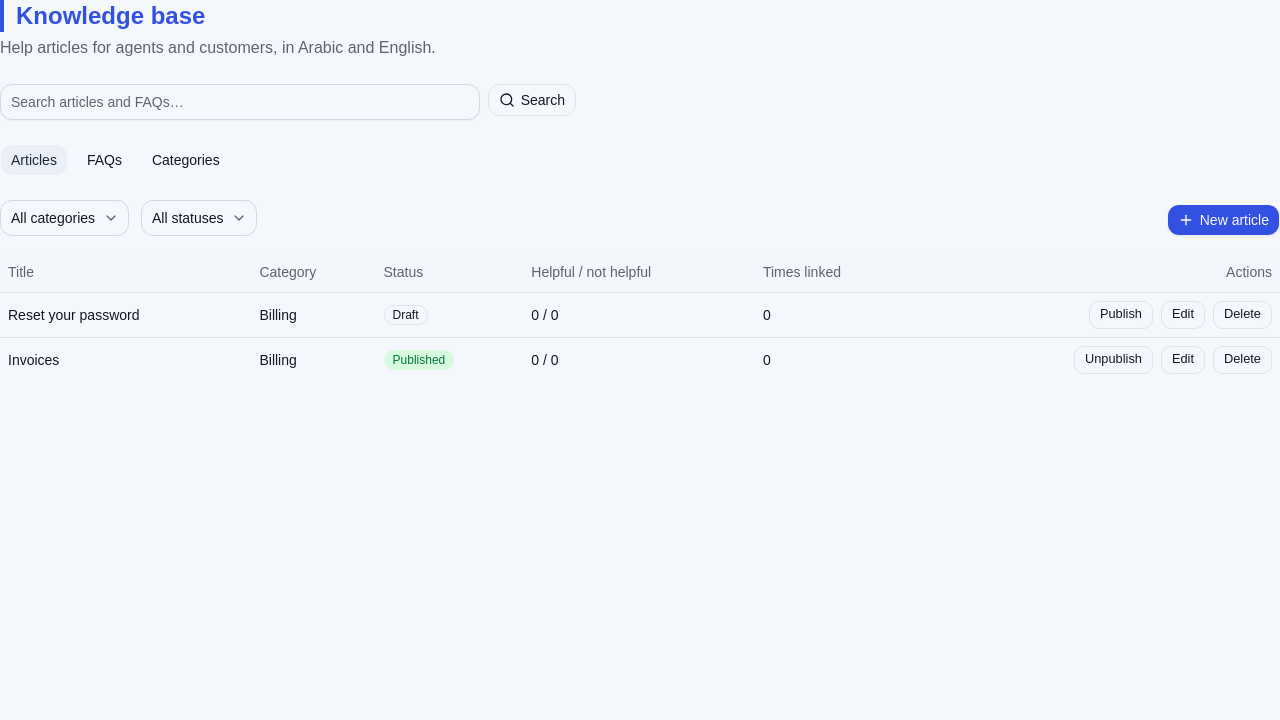
Test: KnowledgeBasePage › lets an editor create an article with both languages (saved as a draft)
The image size is (1280, 720).
Click the button "New article" at (1223, 220), box [1167,204,1279,236]
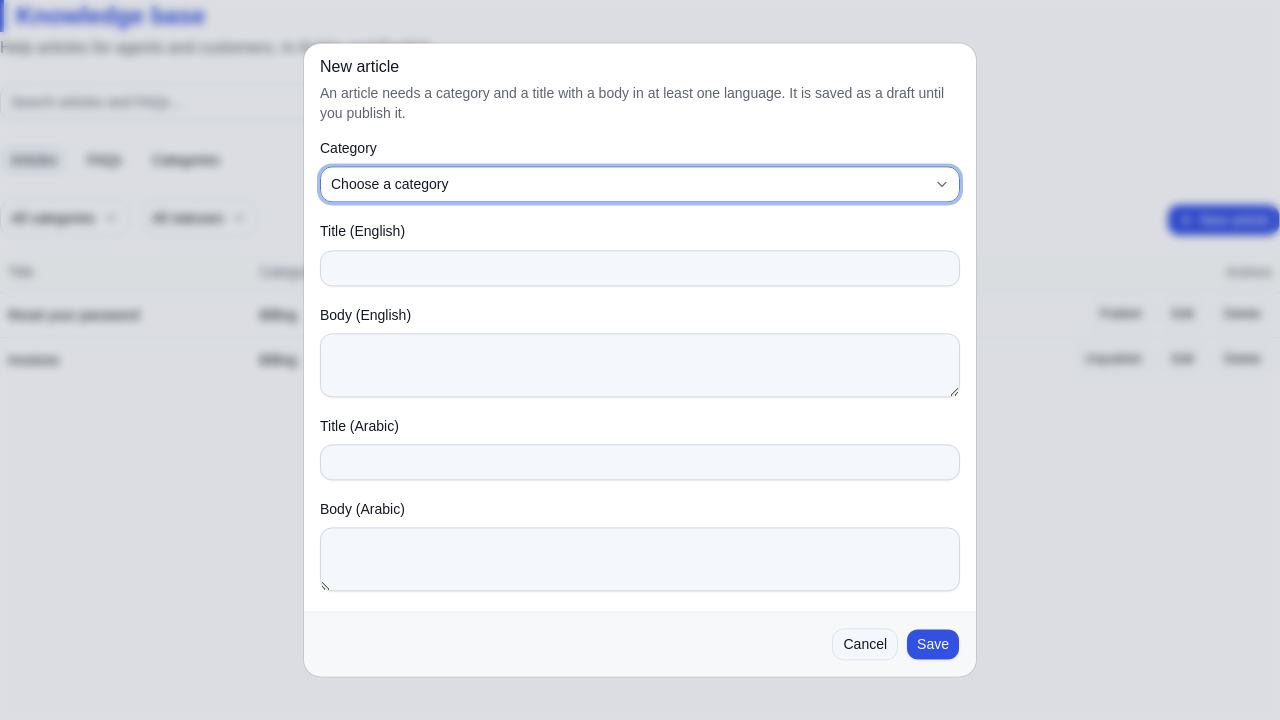
Select "Billing" in the dropdown labelled "Category" at (640, 185), box [320,167,960,203]
Type "Reset your password" into the field labelled "Title (English)" at (640, 268), box [320,250,960,286]
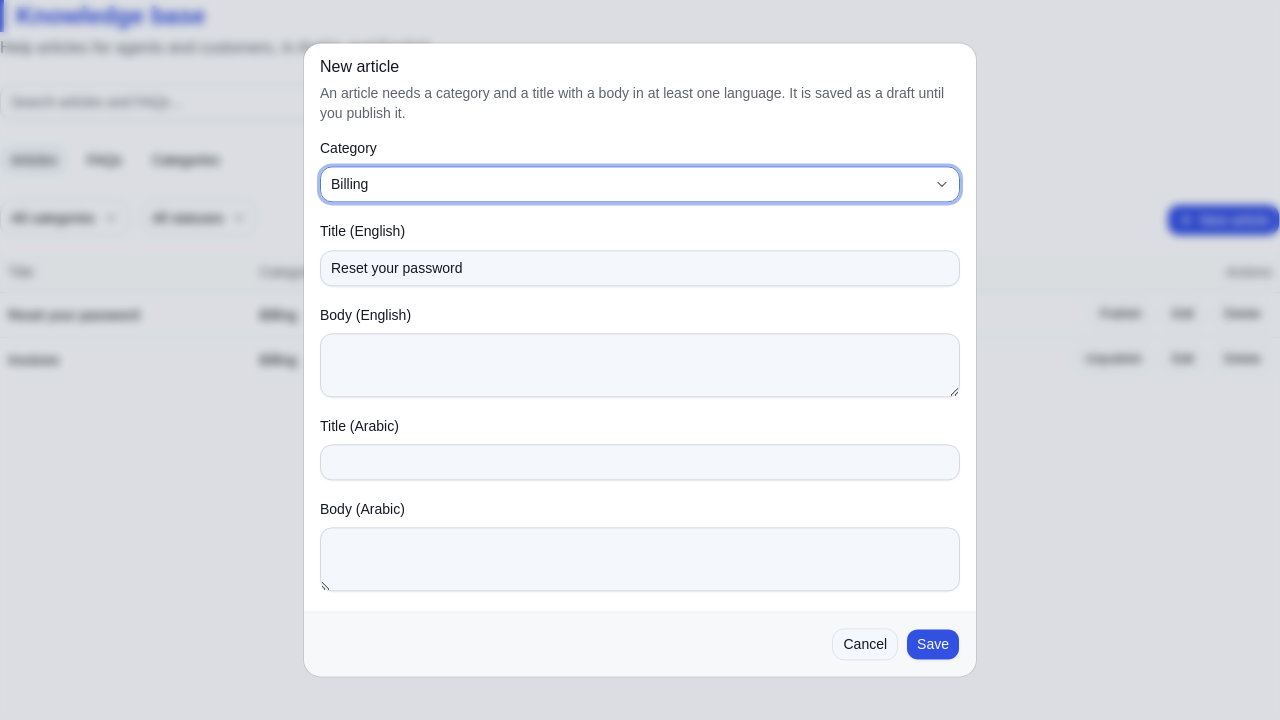
Type "Use the reset link." into the text box labelled "Body (English)" at (640, 365), box [320,333,960,397]
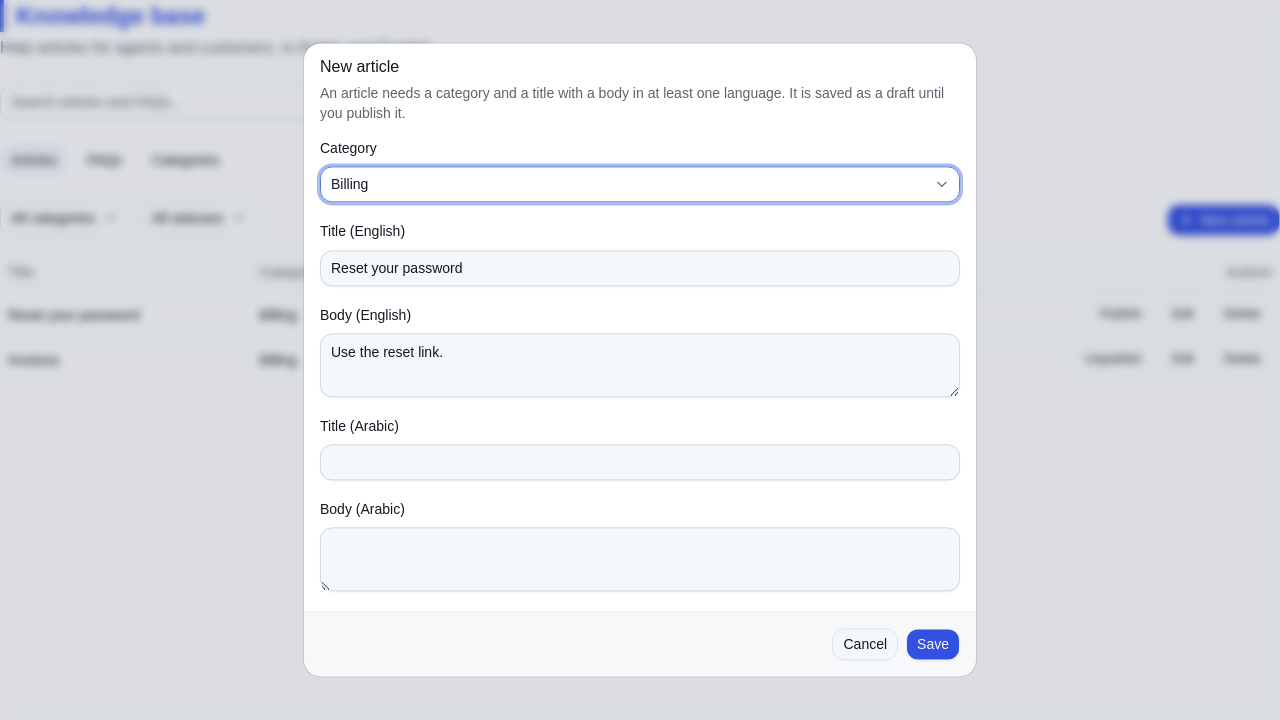
Type "إعادة تعيين كلمة المرور" into the field labelled "Title (Arabic)" at (640, 462), box [320,444,960,480]
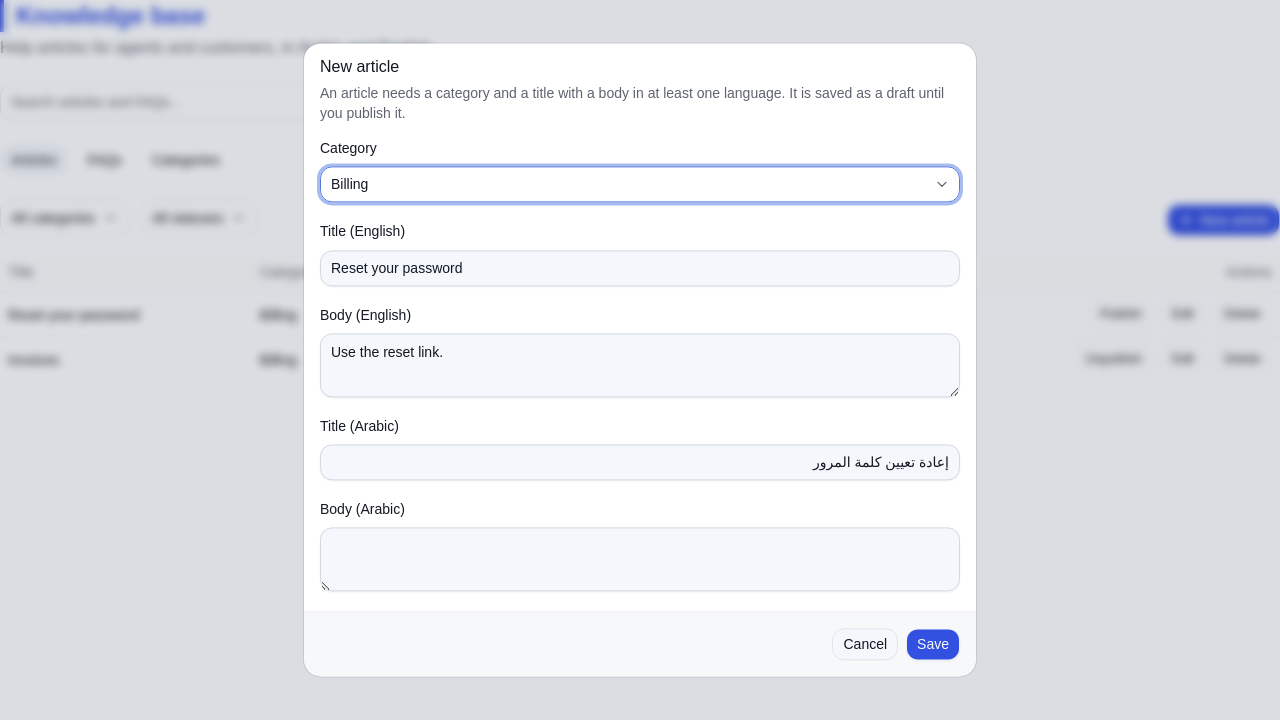
Type "استخدم الرابط." into the text box labelled "Body (Arabic)" at (640, 560), box [320,528,960,592]
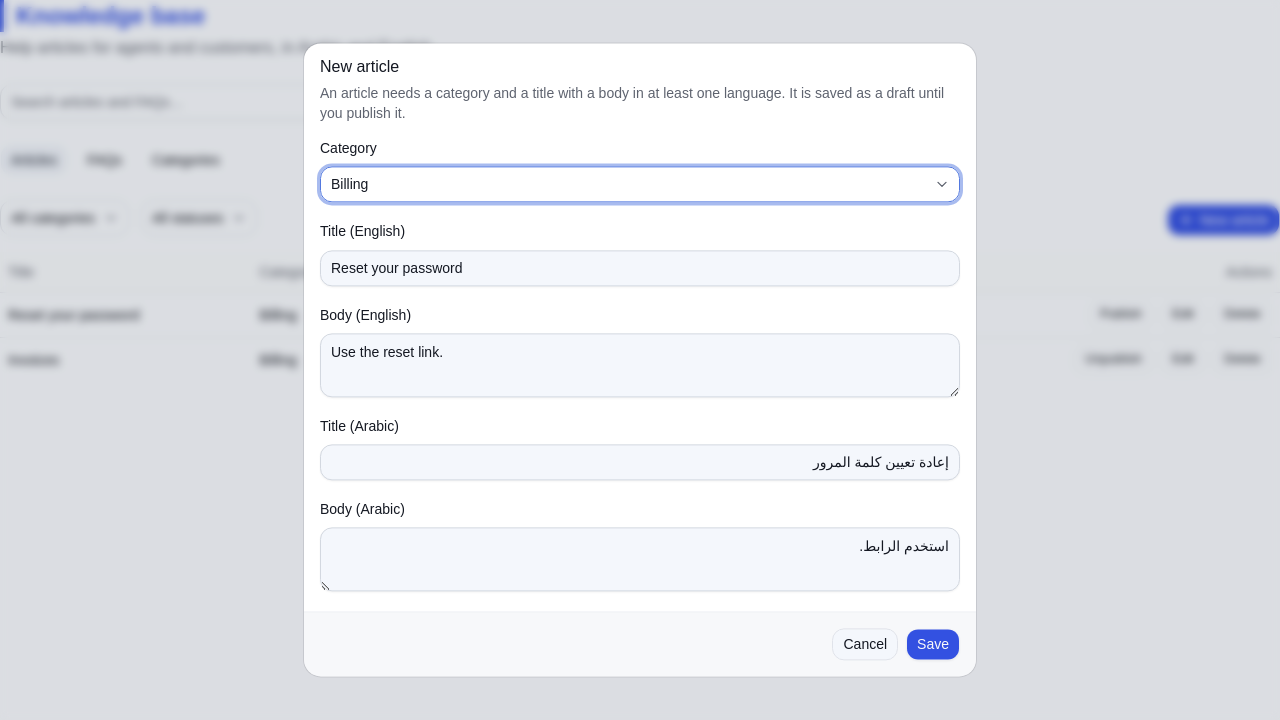
Click the button "Save" at (933, 645), box [906,629,960,661]
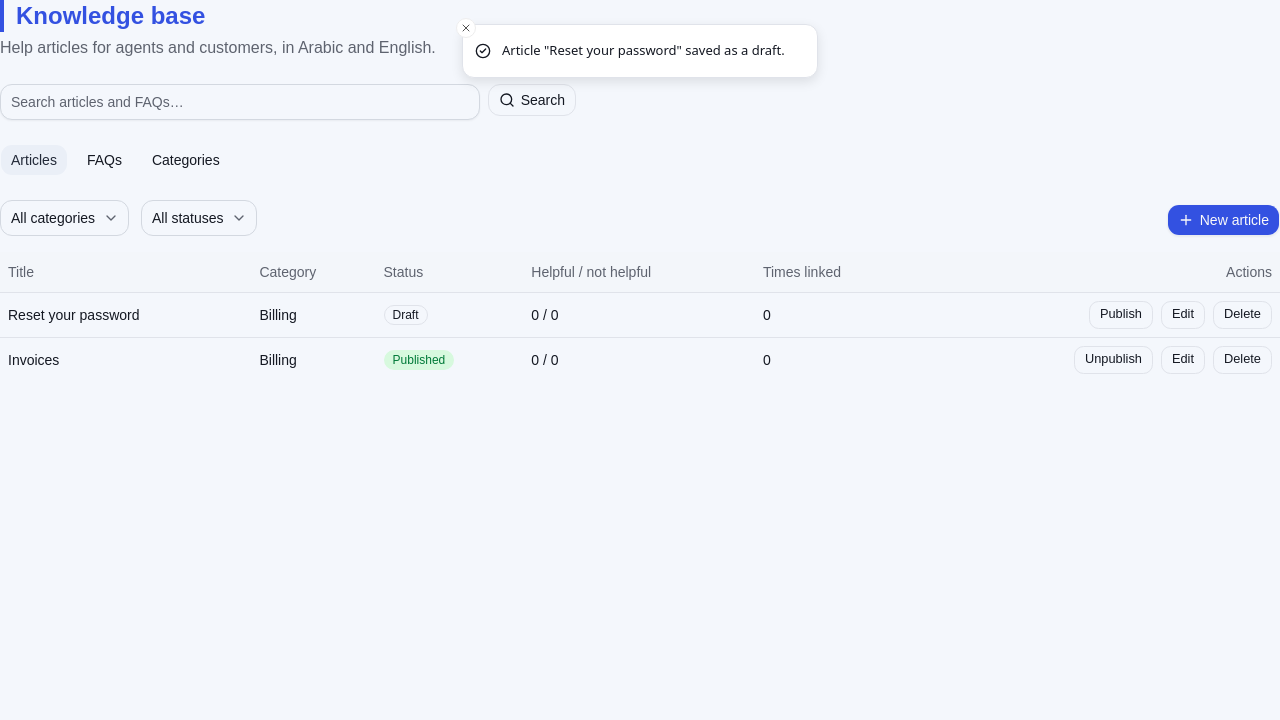
Now the dialog is gone
